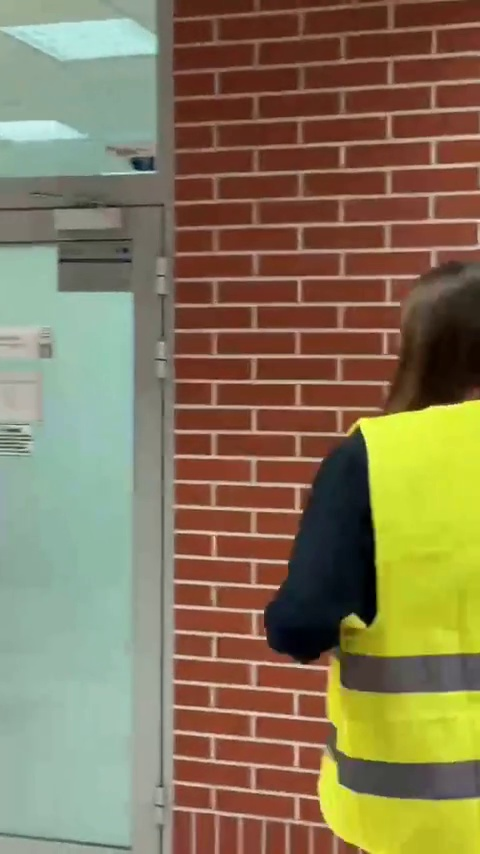vest: (259, 259, 480, 852)
